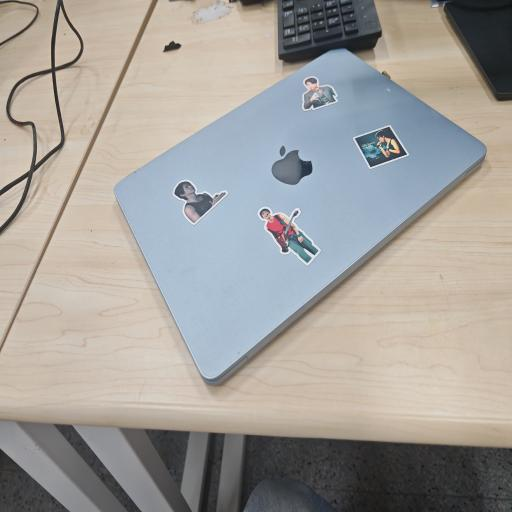laptop: (114, 49, 486, 384)
